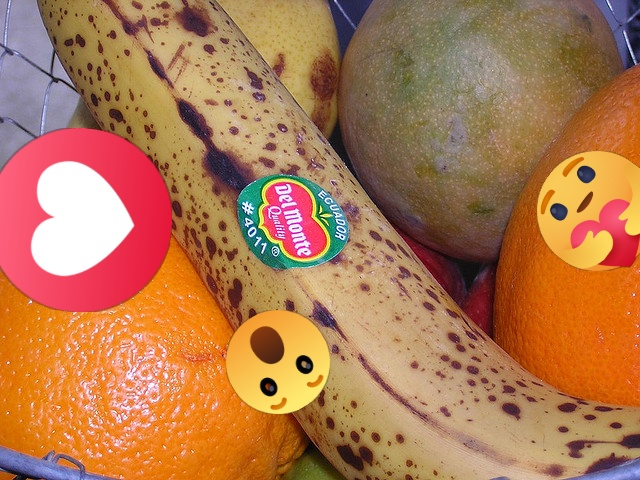care: (537, 151, 640, 271)
love: (0, 128, 172, 312)
wow: (226, 310, 330, 414)
